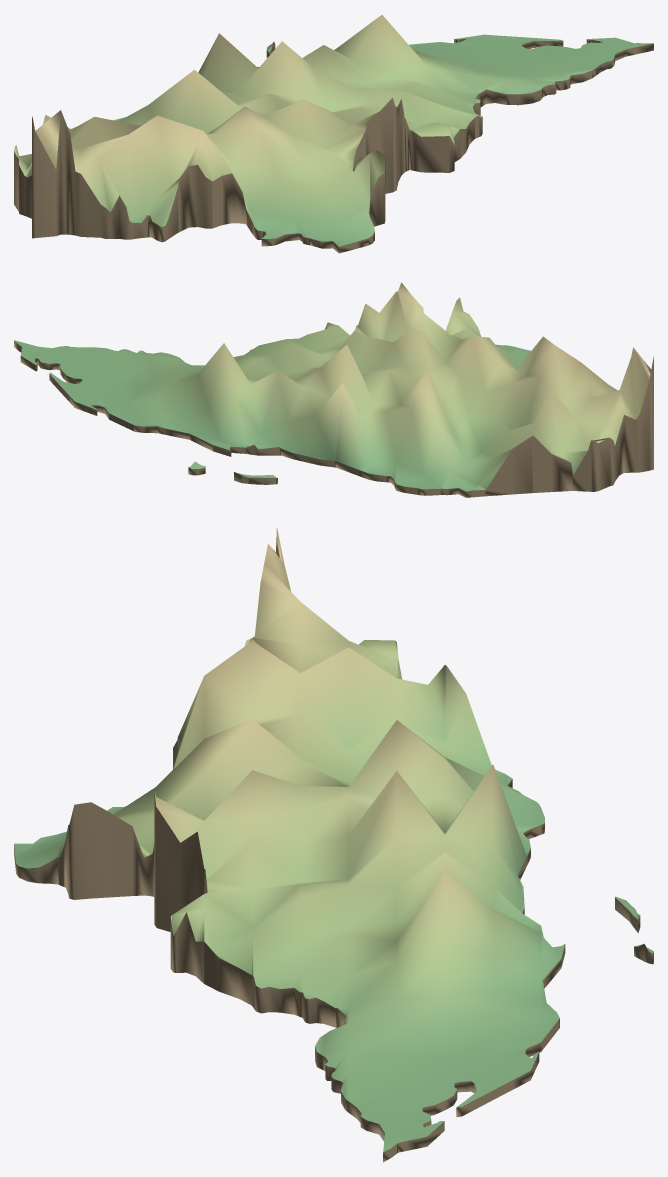
Rendered from HND.glb.
The picture shows the model from 3 angles, top to bottom: view 1: azimuth 30°, elevation 25°; view 2: azimuth 150°, elevation 25°; view 3: azimuth 270°, elevation 25°; orthographic projection. The views are drawn at different scales.
Parts seen in each view (by area): view 1: HND; view 2: HND; view 3: HND.
Boxes of the visible parts, x1,y1,x2,y2 form: HND: (14, 15, 653, 253); HND: (14, 282, 653, 497); HND: (14, 527, 653, 1162).
Size of the model in its own units: 1.87 by 0.338 by 1.1.
